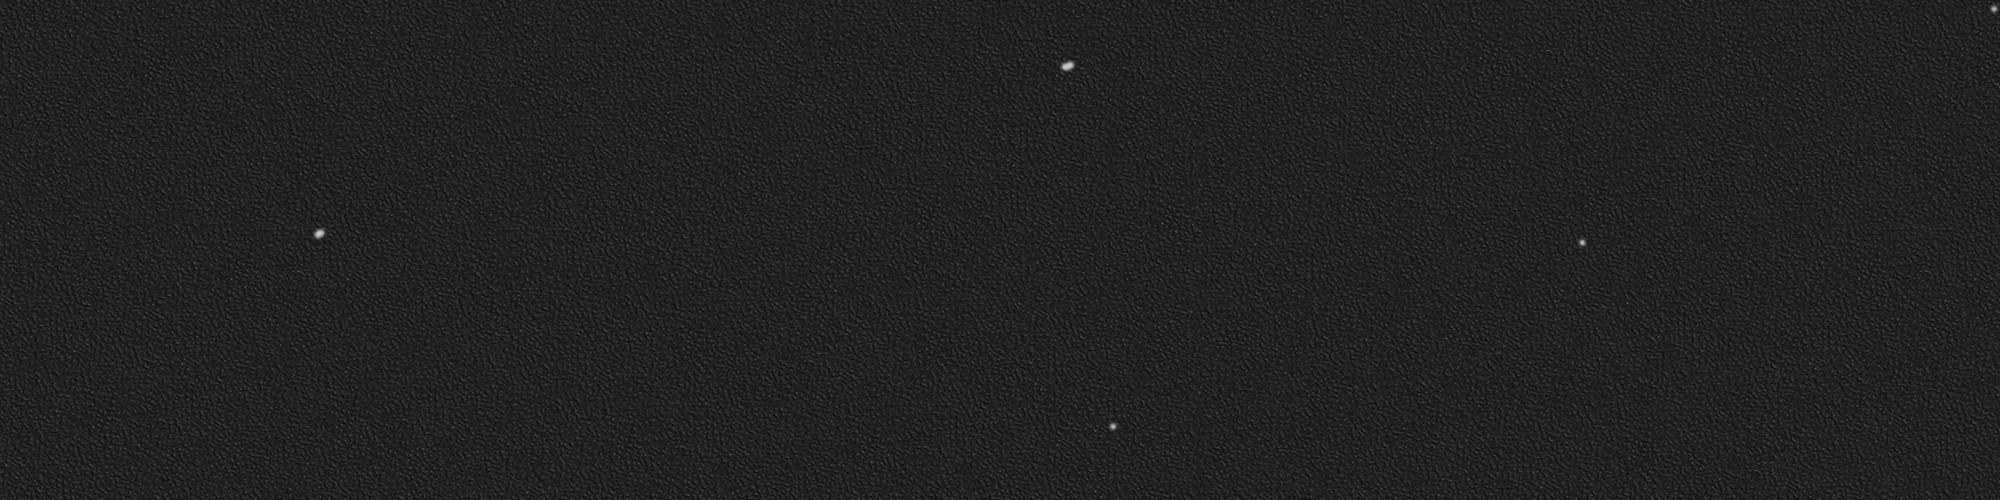Particles: (309, 226, 329, 245), (1057, 57, 1080, 74), (1575, 235, 1591, 250), (1106, 418, 1119, 434)
